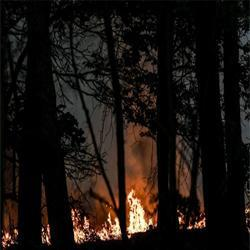fire: (128, 192, 149, 236), (70, 212, 97, 243), (98, 217, 119, 243), (0, 229, 14, 246)
